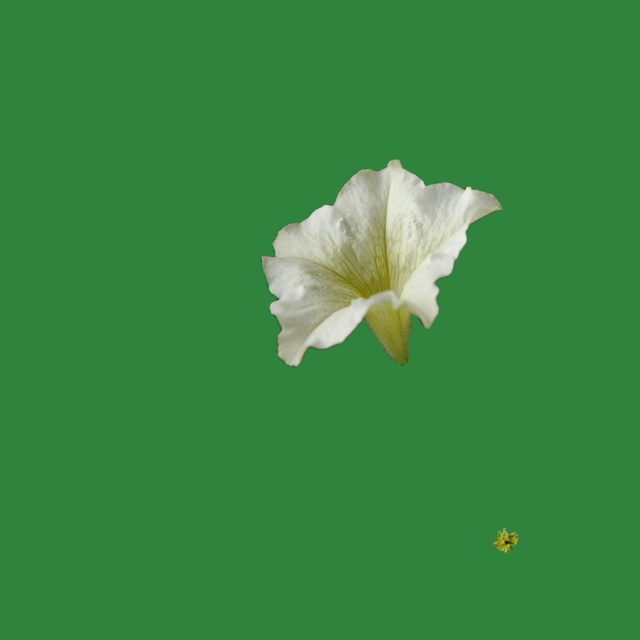petunia: (261, 159, 501, 366)
ylang-ylang: (493, 528, 517, 552)
